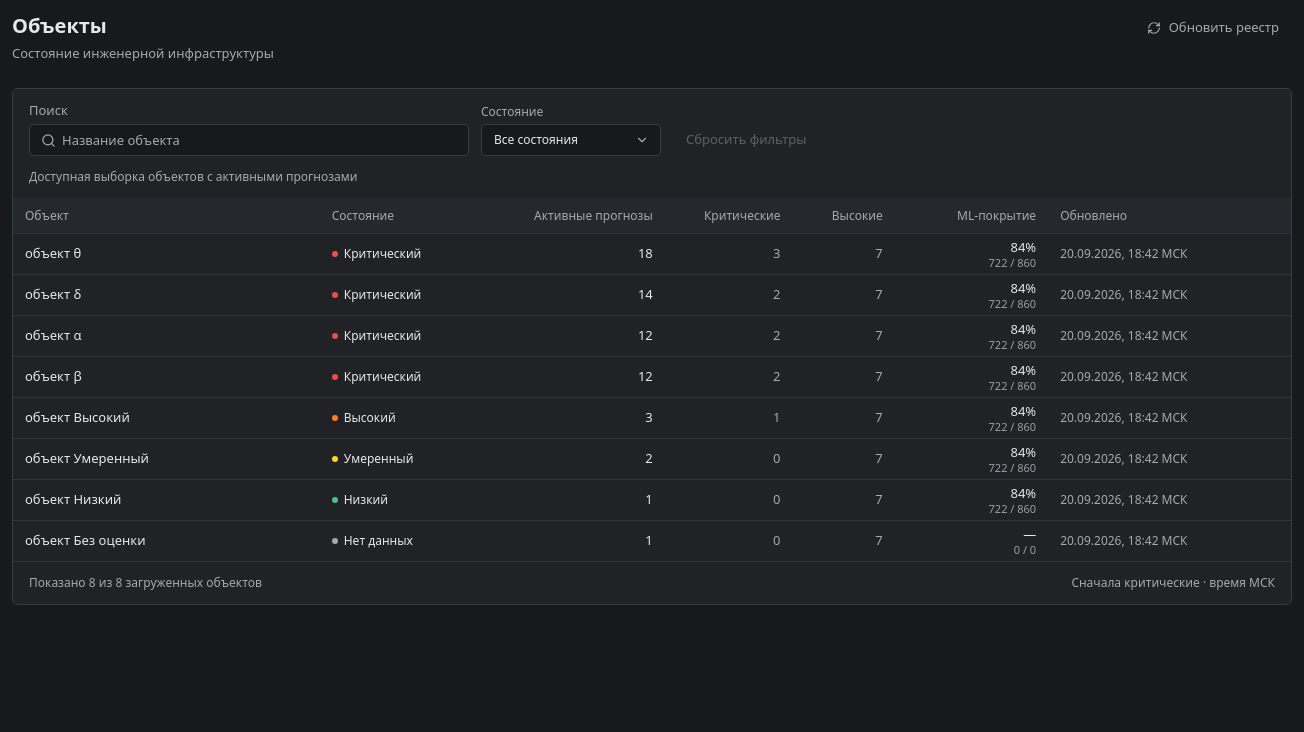
it: Objects registry › searches names ignoring case and surrounding whitespace
Step 1. Type "  фИТА  " into the search field → (249, 140), box [29,124,469,156]
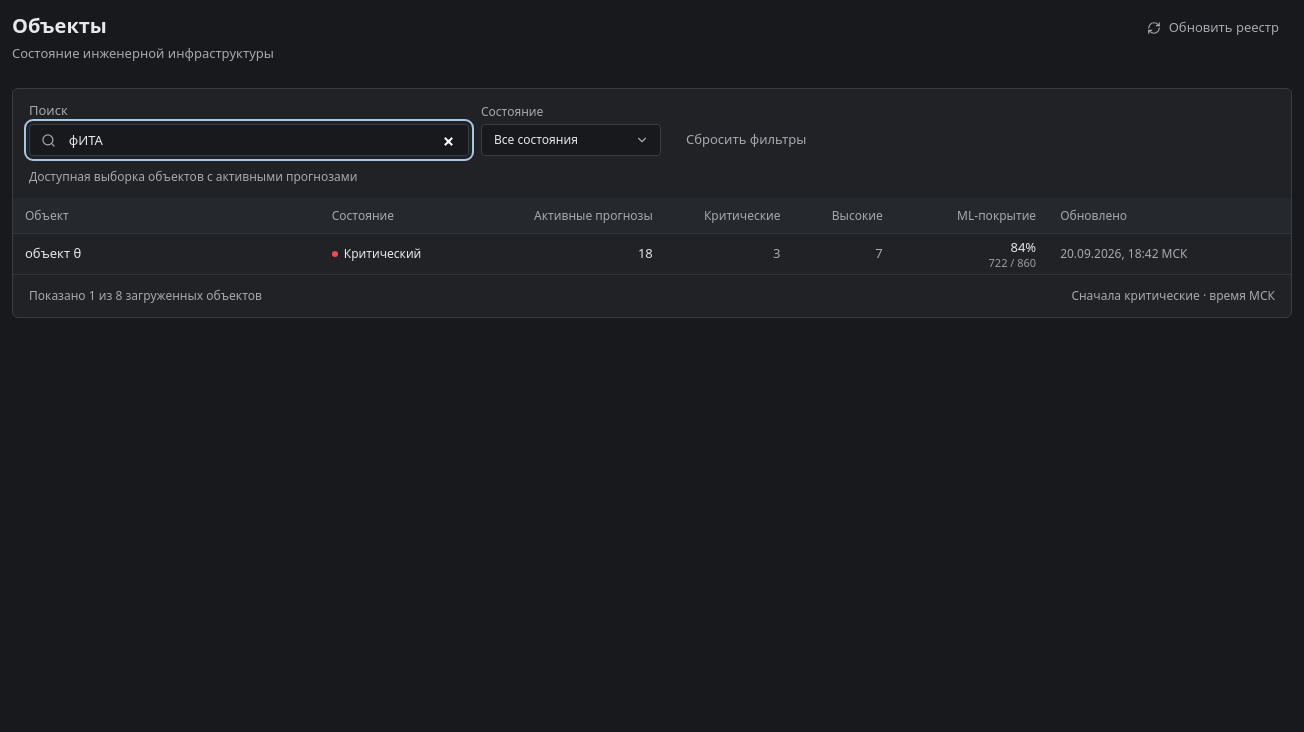
Expected: the text "Показано 1 из 8 загруженных объектов" is shown, [29,287,262,305]
